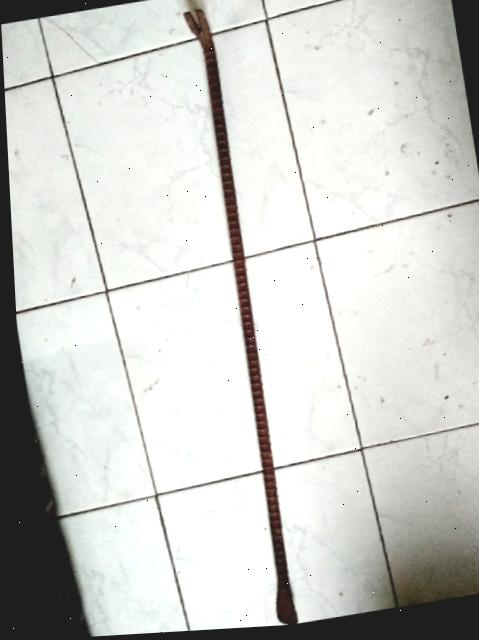crow bar: (176, 6, 289, 628)
